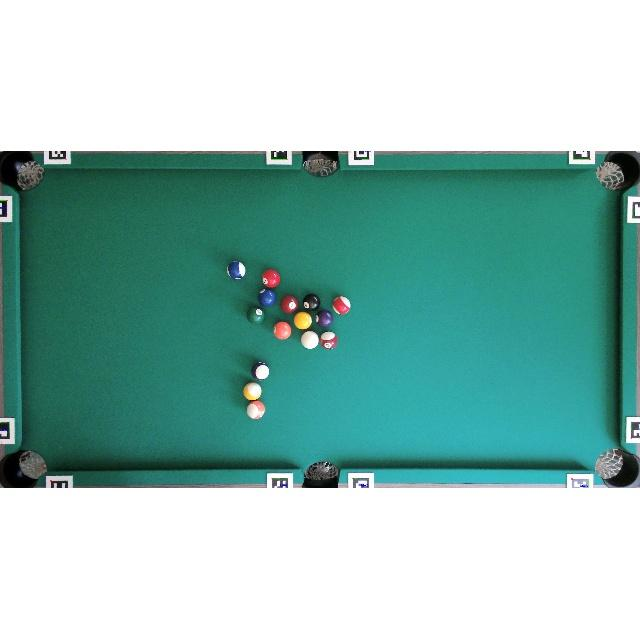cue ball: (300, 331, 319, 349)
other: (247, 400, 266, 420), (227, 261, 246, 280), (273, 321, 292, 340), (251, 361, 270, 380), (315, 310, 334, 328), (243, 382, 262, 400), (258, 288, 276, 307), (294, 311, 312, 330), (262, 269, 280, 288), (281, 295, 299, 314), (247, 306, 265, 324), (302, 293, 320, 311), (332, 296, 350, 314), (320, 332, 338, 349)
